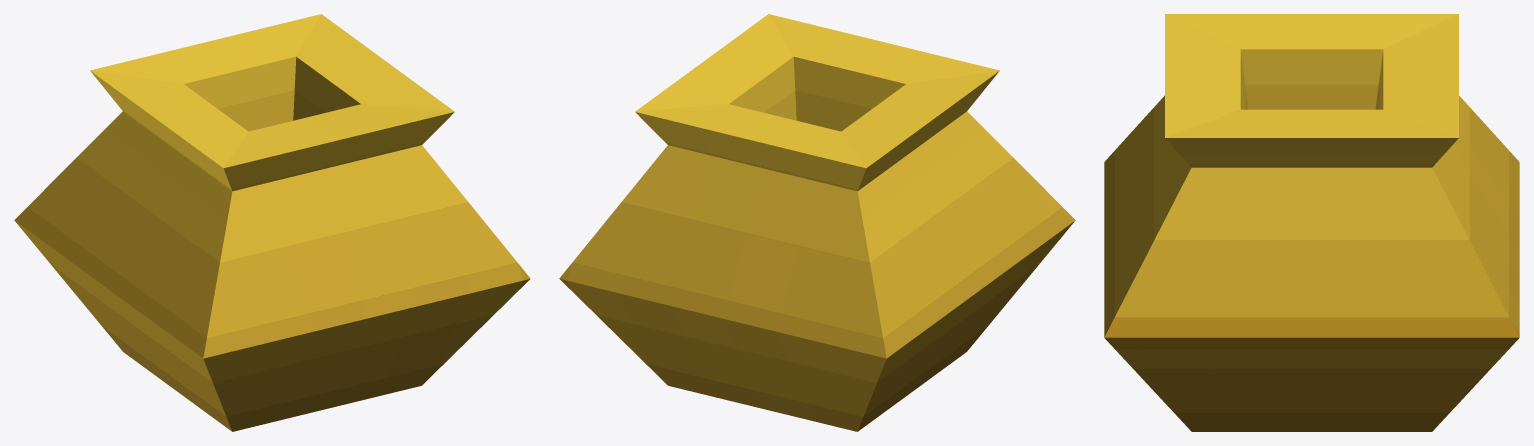
File: Vase2.fbx
3 views of the same model, side by side, from view 1: azimuth 30°, elevation 25°; view 2: azimuth 150°, elevation 25°; view 3: azimuth 270°, elevation 25° (orthographic). The views are drawn at different scales.
Visible parts, largest first — view 1: Vase_v2; view 2: Vase_v2; view 3: Vase_v2.
Part boxes in pixels (x1,y1,x2,y2): Vase_v2: (14, 14, 530, 431); Vase_v2: (559, 14, 1075, 431); Vase_v2: (1104, 14, 1519, 431).
Bounding box in the file's own units: 30.69 × 24.87 × 30.69.
